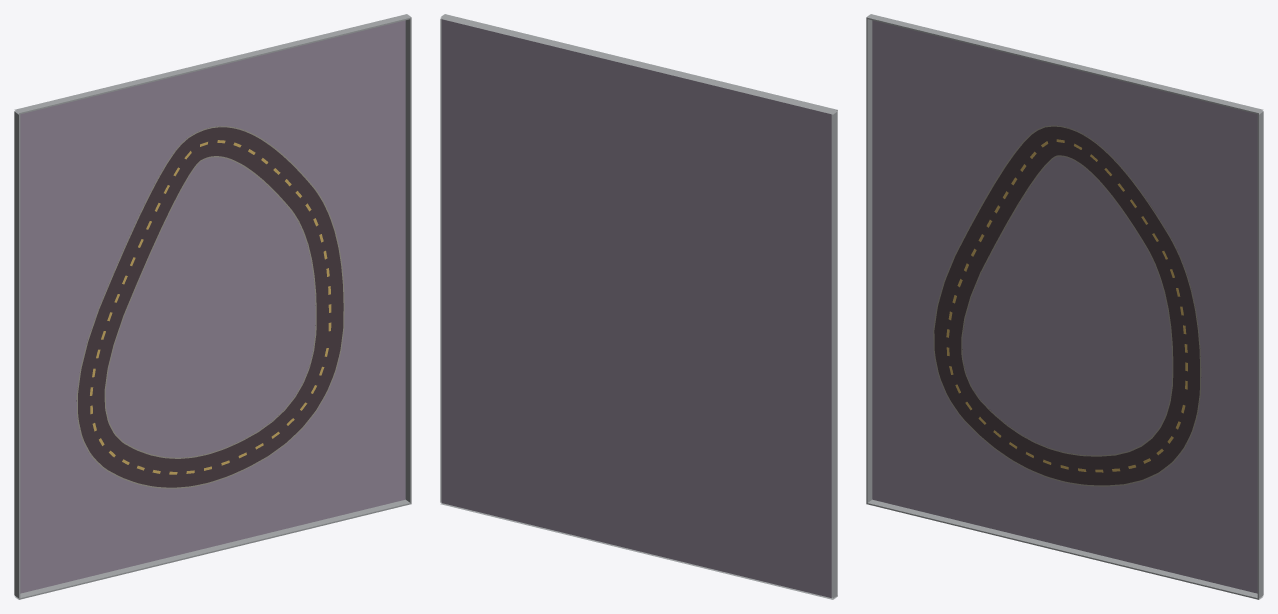
File: track.obj
3 renders of one model, left to right at view 1: azimuth 30°, elevation 25°; view 2: azimuth 150°, elevation 25°; view 3: azimuth 330°, elevation 25°, orthographic.
Size of the model in its own units: 14.59 by 17.27 by 0.3.
